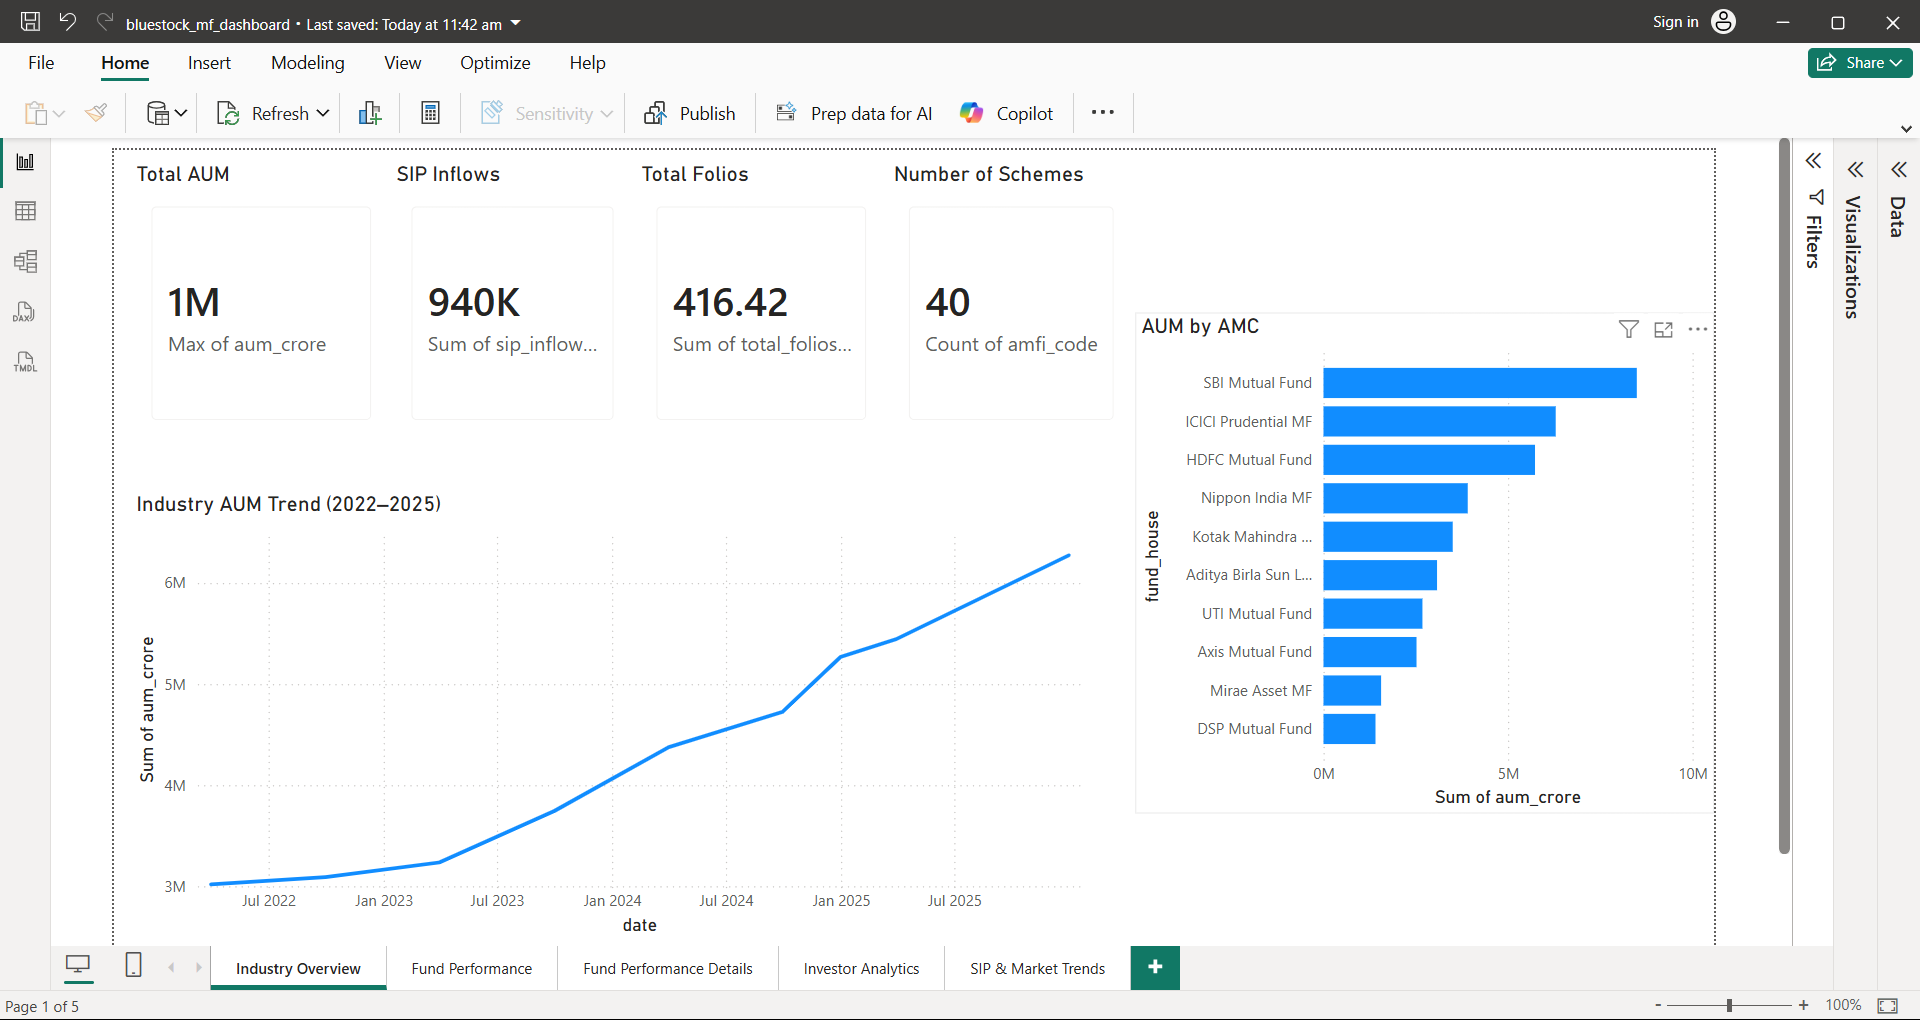

The dashboard page shown, as its layout file describes it:
{"tool":"powerbi","page":{"name":"Industry Overview","canvas":[1280,720],"ordinal":0},"visuals":[{"type":"cardVisual","title":"Total AUM","fields":{"Data":["Max(03_aum_by_fund_house.aum_crore)"]},"box":[12.9,8.6,210,225.7],"z":0},{"type":"cardVisual","title":"SIP Inflows","fields":{"Data":["Sum(04_monthly_sip_inflows.sip_inflow_crore)"]},"box":[221.4,8.6,195.7,225.7],"z":1000},{"type":"cardVisual","title":"Total Folios","fields":{"Data":["Sum(06_industry_folio_count.total_folios_crore)"]},"box":[417.1,8.6,201.4,225.7],"z":2000},{"type":"cardVisual","title":"Number of Schemes","fields":{"Data":["Count(01_fund_master.amfi_code)"]},"box":[618.6,8.6,198.6,225.7],"z":3000},{"type":"lineChart","title":"Industry AUM Trend (2022–2025)","fields":{"Y":["Sum(03_aum_by_fund_house.aum_crore)"],"Category":["03_aum_by_fund_house.date"]},"box":[12.9,272.9,778.6,360],"z":4000},{"type":"clusteredBarChart","title":"AUM by AMC","fields":{"Category":["03_aum_by_fund_house.fund_house"],"Y":["Sum(03_aum_by_fund_house.aum_crore)"]},"box":[817.1,130,462.9,401.4],"z":5000}]}

Visuals, with their boxes on the page's 1280x720 design canvas (x1, y1, x2, y2). These are canvas units, not pixel positions in the 1920x1020 screenshot, which may show the page scaled, cropped or inside an application window:
"Total AUM" cardVisual: detection(13, 9, 223, 234)
"SIP Inflows" cardVisual: detection(221, 9, 417, 234)
"Total Folios" cardVisual: detection(417, 9, 618, 234)
"Number of Schemes" cardVisual: detection(619, 9, 817, 234)
"Industry AUM Trend (2022–2025)" lineChart: detection(13, 273, 792, 633)
"AUM by AMC" clusteredBarChart: detection(817, 130, 1280, 531)
